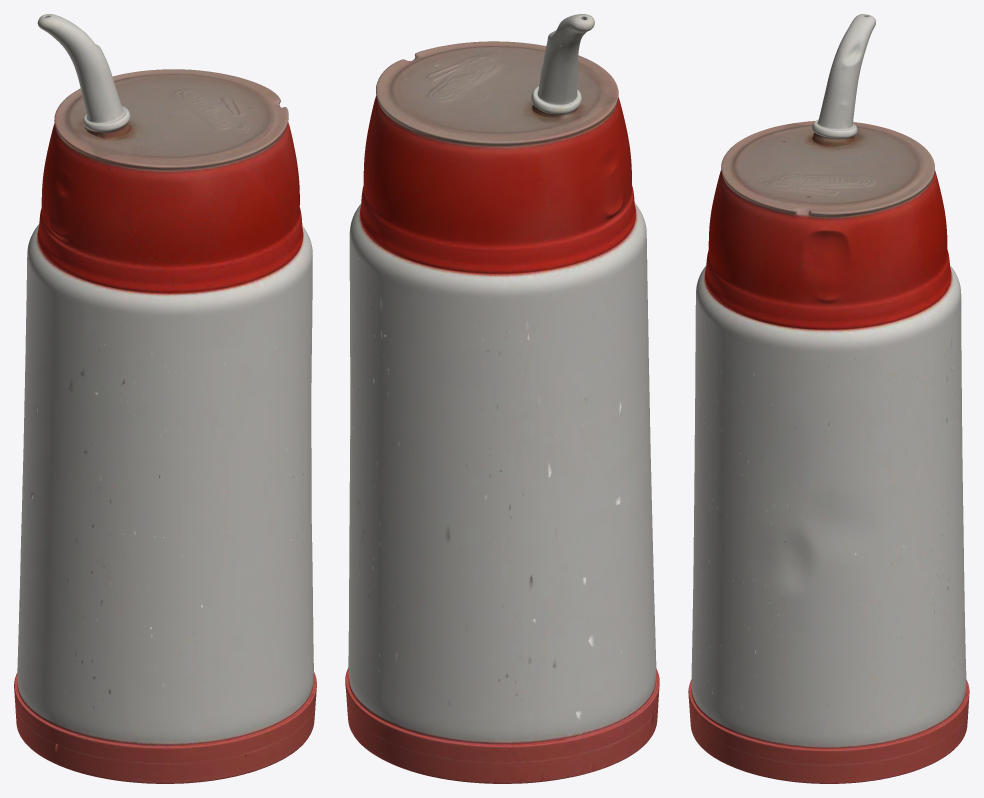
The model's file is modelo.glb.
3 renders of one model, left to right at view 1: azimuth 30°, elevation 25°; view 2: azimuth 150°, elevation 25°; view 3: azimuth 270°, elevation 25°, orthographic. The views are drawn at different scales.
Parts seen in each view (by area): view 1: node_0; view 2: node_0; view 3: node_0.
Boxes of the visible parts, box(x1,y1,x2,y2) form: node_0: box(14, 14, 316, 783); node_0: box(345, 14, 659, 783); node_0: box(688, 14, 969, 783).
Bounding box in the file's own units: 0.433 × 1.12 × 0.4301.
Materials: 1 (1 with a texture image).
